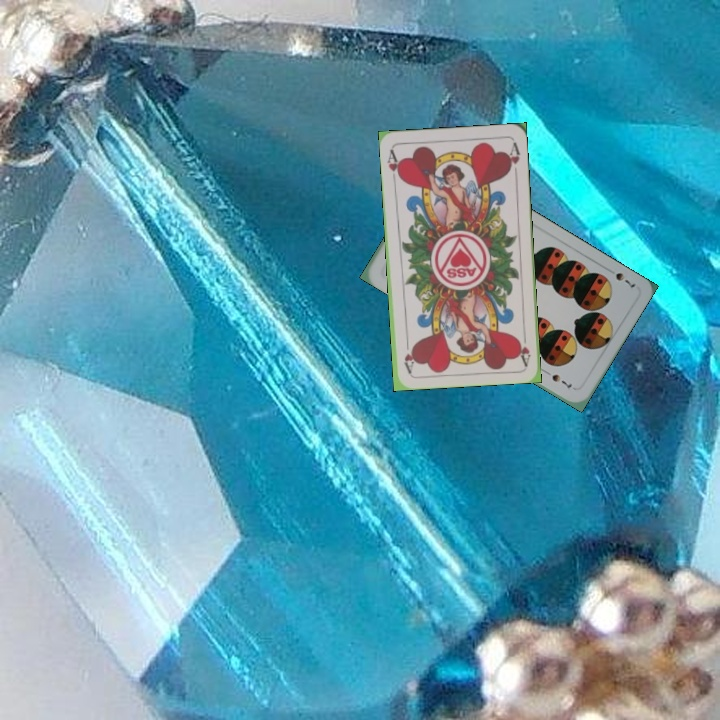HA: (383, 145, 404, 182), (515, 326, 533, 367)
S7: (611, 268, 639, 290)
